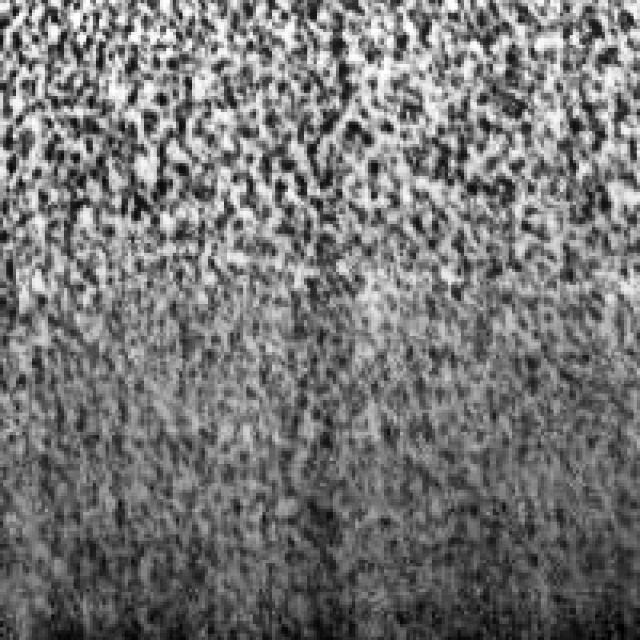Rolled_in_Scale: (7, 0, 630, 368)
